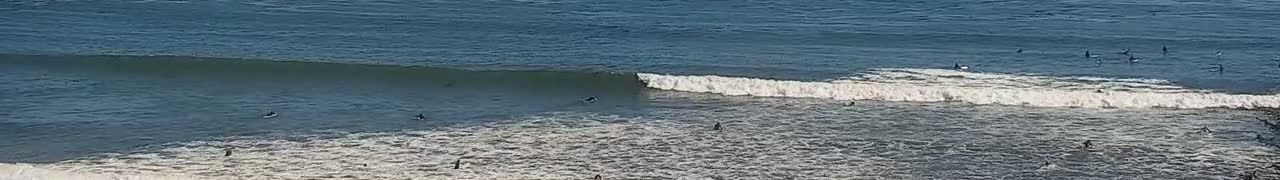Surfer: (1193, 124, 1217, 139), (1036, 159, 1058, 172), (1076, 135, 1096, 149), (449, 155, 465, 170), (708, 120, 724, 135), (1157, 43, 1175, 56), (841, 97, 857, 111), (950, 60, 970, 71), (1116, 46, 1138, 56), (1126, 54, 1142, 66), (581, 94, 599, 104), (262, 109, 279, 119), (1208, 63, 1225, 73), (1083, 49, 1100, 58), (1211, 47, 1224, 58), (412, 112, 427, 121), (1013, 48, 1030, 54)
